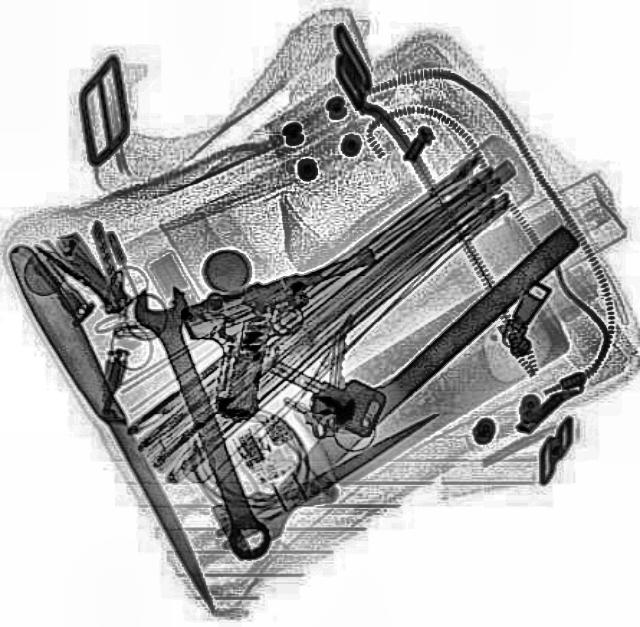Gun: (174, 244, 416, 424)
Knife: (254, 224, 580, 518), (0, 239, 224, 612), (208, 404, 448, 550)
Wrench: (125, 278, 281, 562)
